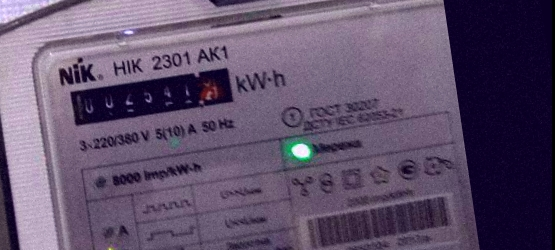0: (80, 92, 95, 114), (100, 87, 115, 109)
1: (178, 76, 192, 98)
2: (120, 85, 135, 106)
4: (159, 78, 174, 101)
5: (139, 81, 154, 105)
6: (202, 85, 215, 102)
screen: (58, 55, 246, 135)
